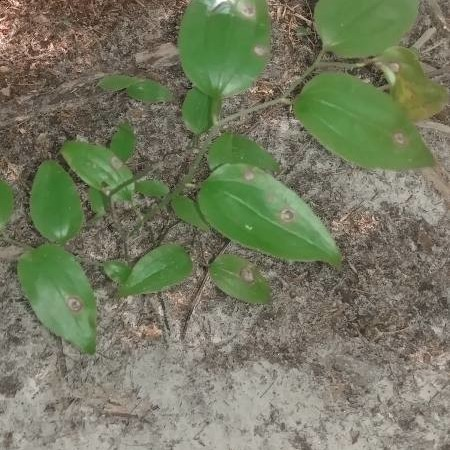obstacle: (55, 26, 360, 327)
